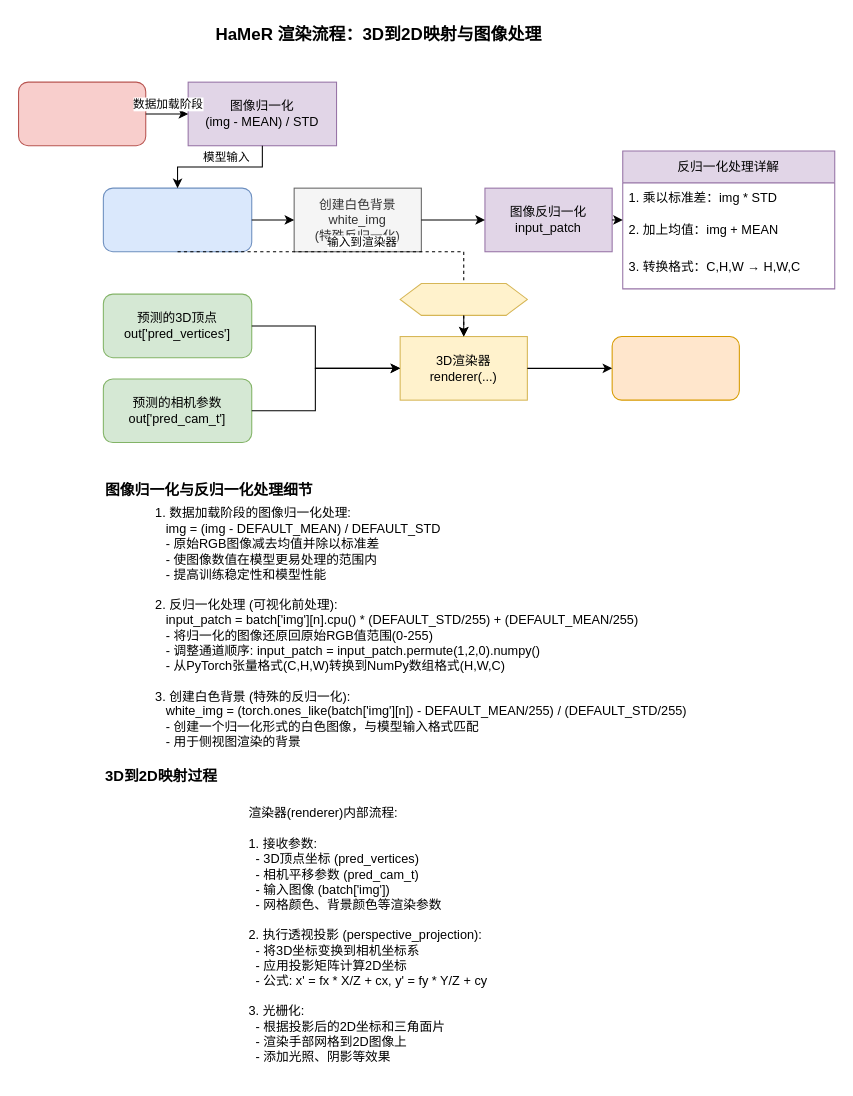
Image size: 853x1096. Some labels were removed from this diagram. Here are the shapes that lost their labels. From the top down, the centre of each, then its label:
At pixel 81 113: "原始RGB图像".
At pixel 177 219: "归一化后的图像 batch['img']".
At pixel 463 298: "渲染参数".
At pixel 675 367: "渲染结果 regression_img".
